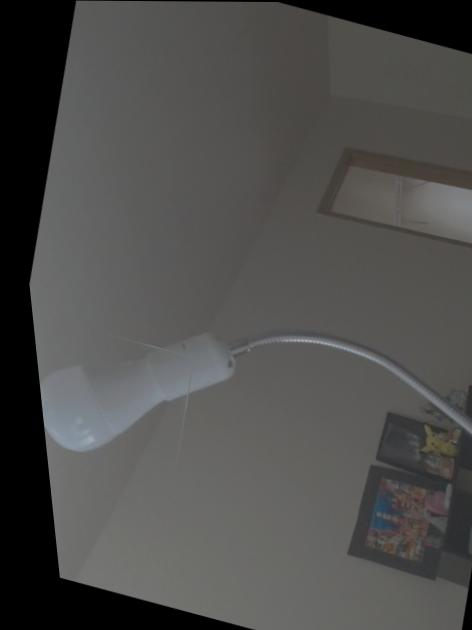Fan: (26, 318, 196, 477)
